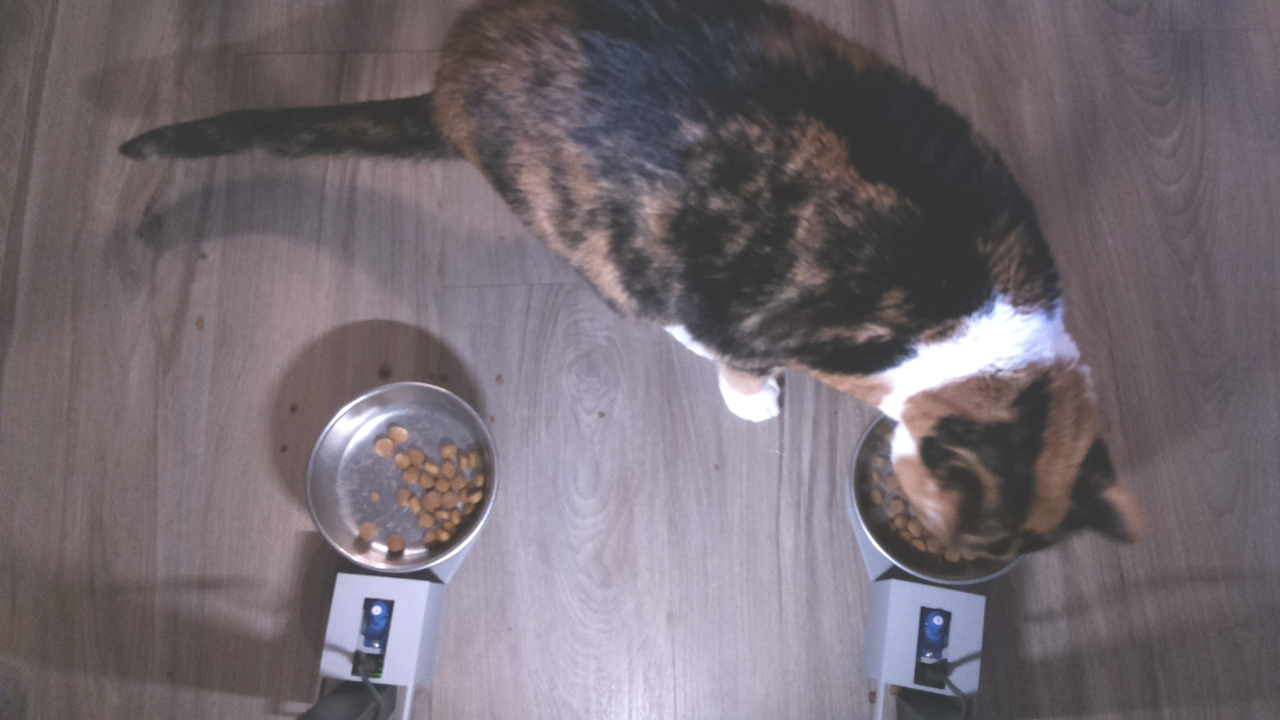bella_eating: (844, 294, 1149, 573)
open_bowl: (300, 371, 492, 571)
